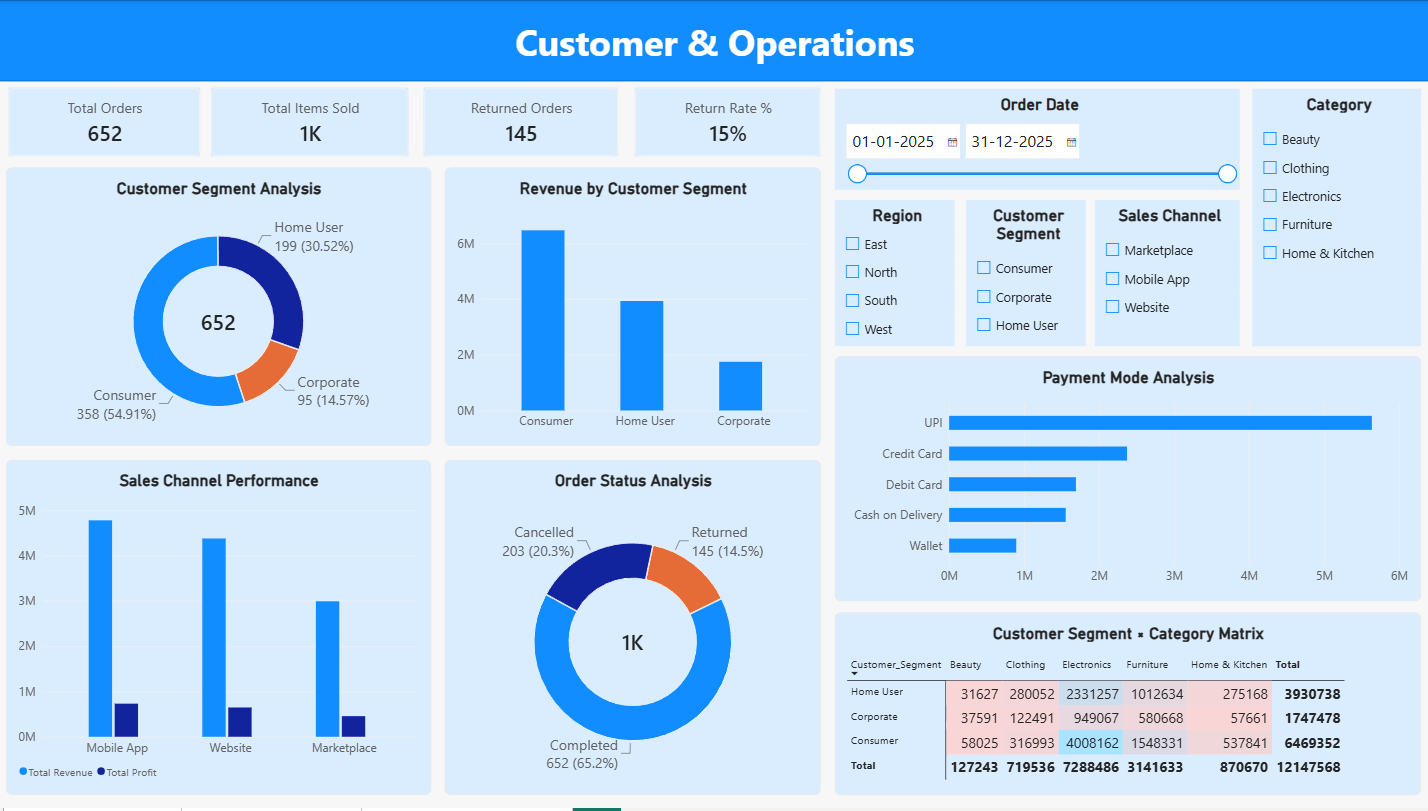

This screenshot's page, from the dashboard's own definition file:
{"tool":"powerbi","page":{"name":"Customer & Operations","canvas":[1920,1080],"ordinal":2},"visuals":[{"type":"cardVisual","fields":{"Data":["Raw_Data.Total Orders"]},"box":[14,24,256,92],"z":0},{"type":"cardVisual","fields":{"Data":["Raw_Data.Returned Orders"]},"box":[568,24,260,92],"z":1000},{"type":"cardVisual","fields":{"Data":["Raw_Data.Total Items Sold"]},"box":[284,24,264,92],"z":2000},{"type":"cardVisual","fields":{"Data":["Raw_Data.Return Rate %"]},"box":[850,24,248,92],"z":3000},{"type":"donutChart","title":"Customer Segment Analysis","fields":{"Category":["Raw_Data.Customer_Segment"],"Y":["Raw_Data.Total Orders"]},"box":[14,124,568,484],"z":4000},{"type":"clusteredColumnChart","title":"Revenue by Customer Segment","fields":{"Category":["Raw_Data.Customer_Segment"],"Y":["Raw_Data.Total Revenue"]},"box":[600,124,498,484],"z":5000},{"type":"clusteredColumnChart","title":"Sales Channel Performance","fields":{"Category":["Raw_Data.Sales_Channel"],"Y":["Raw_Data.Total Revenue","Raw_Data.Total Profit"]},"box":[14,620,568,442],"z":6000},{"type":"donutChart","title":"Order Status Analysis","fields":{"Category":["Raw_Data.Order_Status"],"Y":["CountNonNull(Raw_Data.Order_ID)"]},"box":[600,620,498,442],"z":7000},{"type":"barChart","title":"Payment Mode Analysis","fields":{"Category":["Raw_Data.Payment_Mode"],"Y":["Raw_Data.Total Revenue"]},"box":[1120,456,784,330],"z":8000},{"type":"pivotTable","title":"Customer Segment × Category Matrix","fields":{"Columns":["Raw_Data.Category"],"Rows":["Raw_Data.Customer_Segment"],"Values":["Raw_Data.Total Revenue"]},"box":[1120,800,784,262],"z":9000},{"type":"slicer","title":"Order Date","fields":{"Values":["Raw_Data.Order_Date"]},"box":[1120,24,468,180],"z":10000},{"type":"slicer","title":"Customer Segment","fields":{"Values":["Raw_Data.Customer_Segment"]},"box":[1371.7,217.2,216,232],"z":11000},{"type":"slicer","title":"Region","fields":{"Values":["Raw_Data.Region"]},"box":[1120,218,242,232],"z":12000},{"type":"slicer","title":"Category","fields":{"Values":["Raw_Data.Category"]},"box":[1606,16,298,248],"z":13000},{"type":"slicer","title":"Sales Channel","fields":{"Values":["Raw_Data.Sales_Channel"]},"box":[1606,284,298,166],"z":14000}]}

Visuals, with their boxes in screenshot pixels (x1, y1, x2, y2), scaled from the page's 1920x1080 canvas onto the 1428x811 screenshot:
cardVisual - Raw_Data.Total Orders: [left=10, top=18, right=201, bottom=87]
cardVisual - Raw_Data.Returned Orders: [left=422, top=18, right=616, bottom=87]
cardVisual - Raw_Data.Total Items Sold: [left=211, top=18, right=408, bottom=87]
cardVisual - Raw_Data.Return Rate %: [left=632, top=18, right=817, bottom=87]
"Customer Segment Analysis" donutChart: [left=10, top=93, right=433, bottom=457]
"Revenue by Customer Segment" clusteredColumnChart: [left=446, top=93, right=817, bottom=457]
"Sales Channel Performance" clusteredColumnChart: [left=10, top=466, right=433, bottom=797]
"Order Status Analysis" donutChart: [left=446, top=466, right=817, bottom=797]
"Payment Mode Analysis" barChart: [left=833, top=342, right=1416, bottom=590]
"Customer Segment × Category Matrix" pivotTable: [left=833, top=601, right=1416, bottom=797]
"Order Date" slicer: [left=833, top=18, right=1181, bottom=153]
"Customer Segment" slicer: [left=1020, top=163, right=1181, bottom=337]
"Region" slicer: [left=833, top=164, right=1013, bottom=338]
"Category" slicer: [left=1194, top=12, right=1416, bottom=198]
"Sales Channel" slicer: [left=1194, top=213, right=1416, bottom=338]
